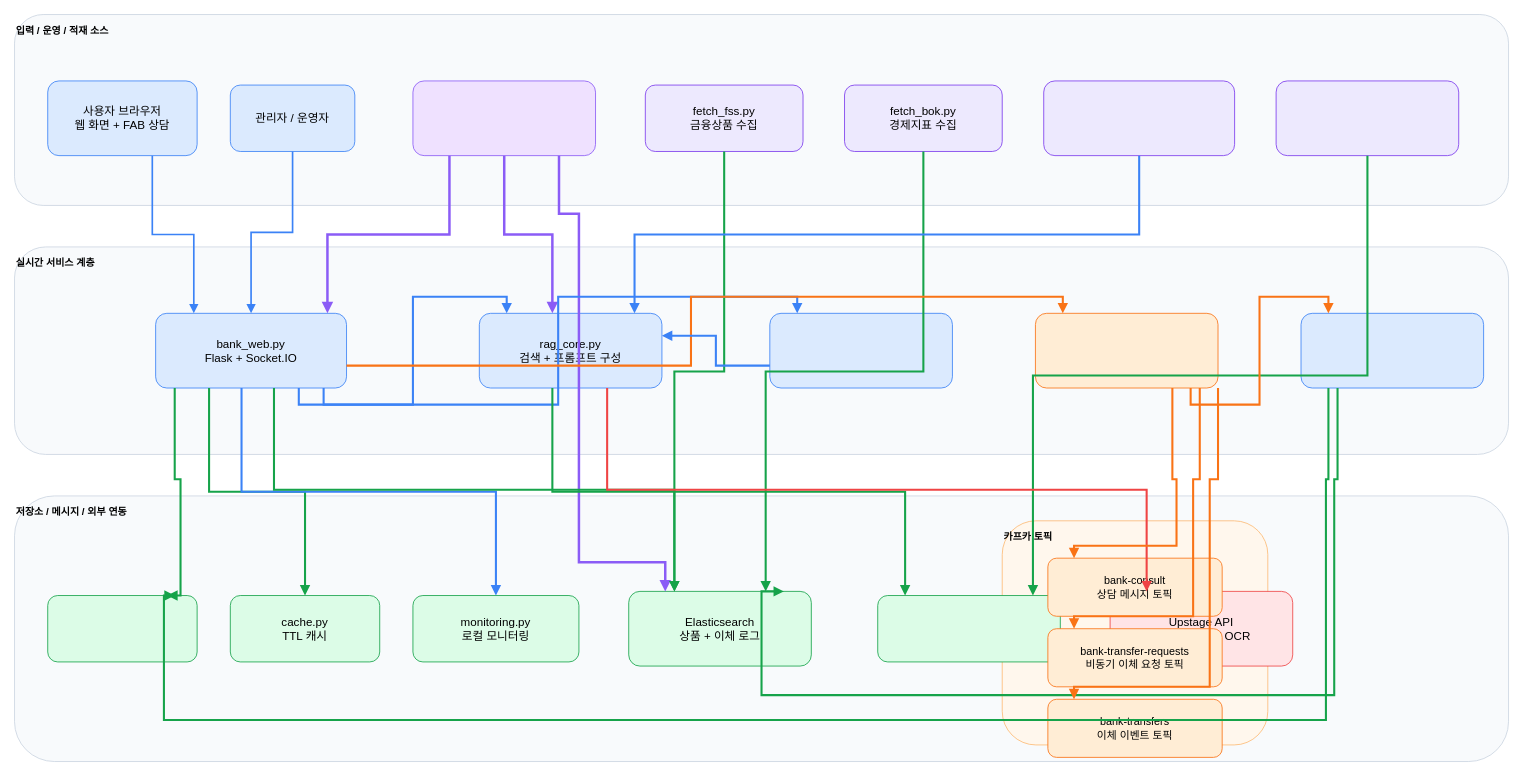
Image size: 1523x776. Some labels were removed from this diagram. Here are the shapes that lost their labels. From the top down, the centre of each, then its label:
At (504,118): "bank_agents.py 에이전트 워크플로".
At (1139,118): "app.py RAG 업로드 서비스 :5001".
At (1367,118): "seed_consult_kb.py 상담 KB 시드".
At (860,350): "bank_consult_bot.py 상담 챗봇".
At (1126,350): "Kafka 브로커 localhost:9092".
At (1392,350): "이체 요청 컨슈머 bank_web.py 내부".
At (122,628): "bank_db.py SQLite".
At (968,628): "store.pkl 임베딩 지식 저장소".
